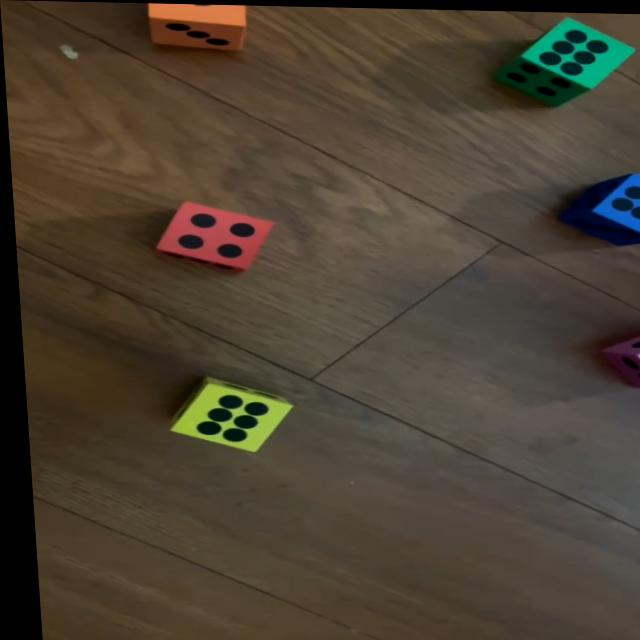cube: (494, 14, 637, 102), (152, 200, 271, 270), (554, 168, 640, 244)
